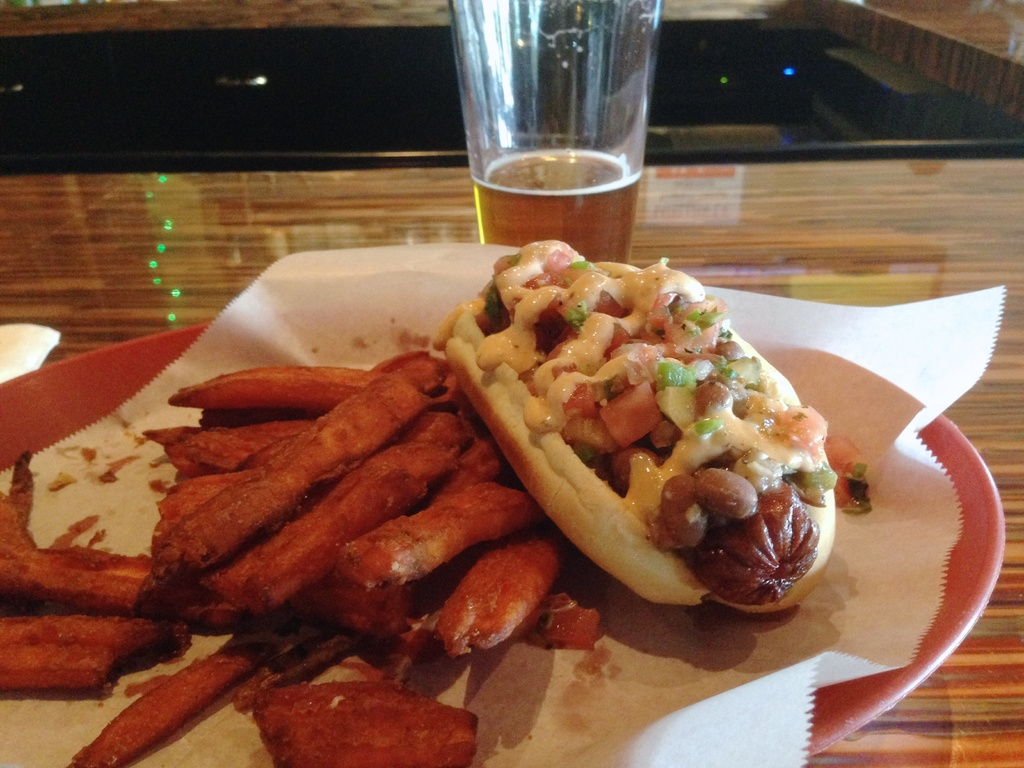French fries: (119, 325, 533, 648)
